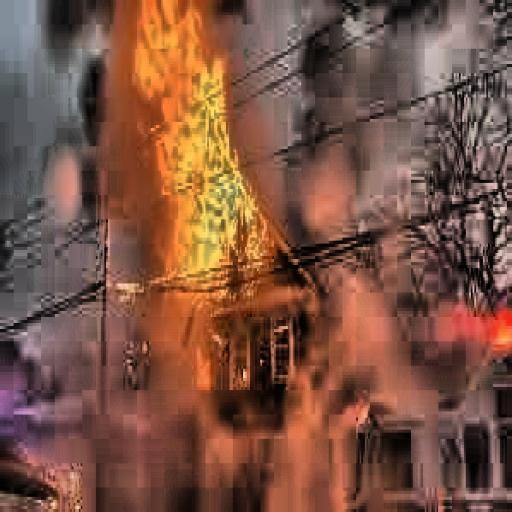fire: (123, 18, 274, 342)
